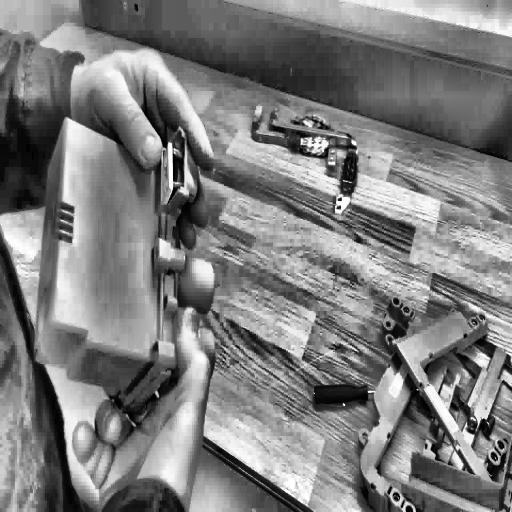busbar: (246, 99, 361, 218)
connector: (32, 112, 218, 416)
